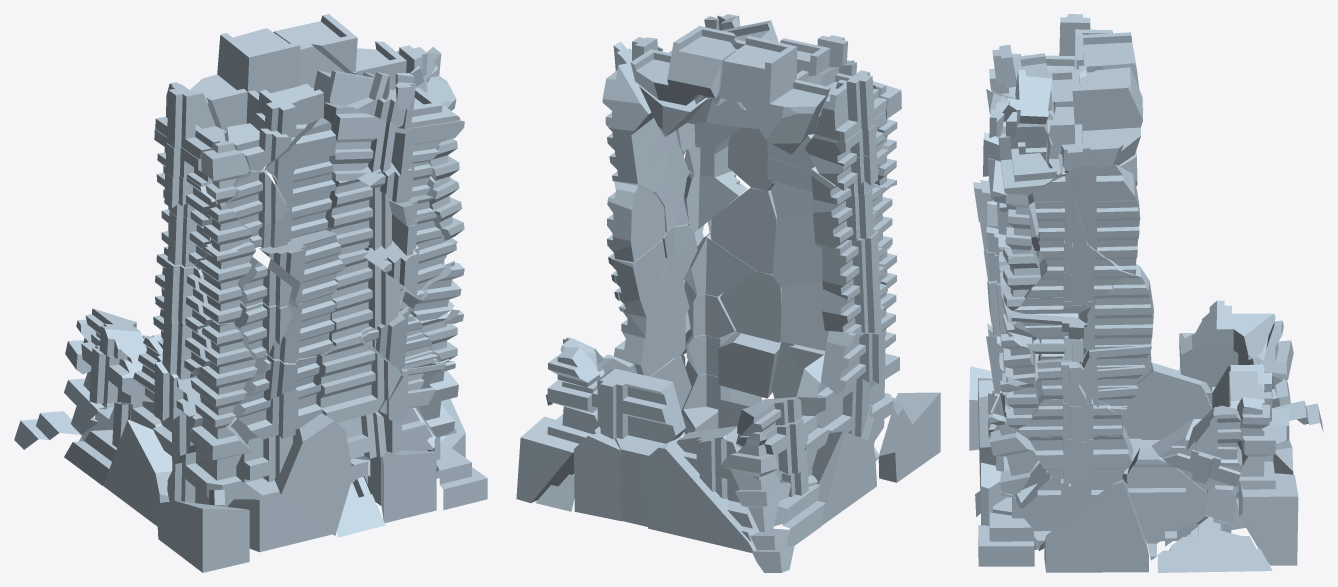
The model's file is Heavy_Commercial1-2-broken.fbx.
The picture shows the model from 3 angles, left to right: view 1: azimuth 30°, elevation 25°; view 2: azimuth 150°, elevation 25°; view 3: azimuth 270°, elevation 25°; orthographic projection. The views are drawn at different scales.
Parts seen in each view (by area): view 1: Heavy_Commercal_1_cell.099, Heavy_Commercal_1_cell.083, Heavy_Commercal_1_cell.166, Heavy_Commercal_1_cell.082, Heavy_Commercal_1_cell.146, Heavy_Commercal_1_cell.197, Heavy_Commercal_1_cell.117, Heavy_Commercal_1_cell.063, Heavy_Commercal_1_cell.007, Heavy_Commercal_1_cell.056, Heavy_Commercal_1_cell.037, Heavy_Commercal_1_cell.164 (+60 smaller); view 2: Heavy_Commercal_1_cell.099, Heavy_Commercal_1_cell.159, Heavy_Commercal_1_cell.117, Heavy_Commercal_1_cell.087, Heavy_Commercal_1_cell.088, Heavy_Commercal_1_cell.166, Heavy_Commercal_1_cell.146, Heavy_Commercal_1_cell.197, Heavy_Commercal_1_cell.148, Heavy_Commercal_1_cell.102, Heavy_Commercal_1_cell.008, Heavy_Commercal_1_cell.145 (+55 smaller); view 3: Heavy_Commercal_1_cell.036, Heavy_Commercal_1_cell.117, Heavy_Commercal_1_cell.088, Heavy_Commercal_1_cell.178, Heavy_Commercal_1_cell.162, Heavy_Commercal_1_cell.102, Heavy_Commercal_1_cell.132, Heavy_Commercal_1_cell.105, Heavy_Commercal_1_cell.171, Heavy_Commercal_1_cell.020, Heavy_Commercal_1_cell.125, Heavy_Commercal_1_cell.101 (+54 smaller).
Part boxes in pixels (x1,y1,x2,y2): Heavy_Commercal_1_cell.099: (190,28,300,141); Heavy_Commercal_1_cell.083: (274,413,353,535); Heavy_Commercal_1_cell.166: (156,500,249,572); Heavy_Commercal_1_cell.082: (313,340,401,422); Heavy_Commercal_1_cell.146: (103,420,172,526); Heavy_Commercal_1_cell.197: (329,257,403,346); Heavy_Commercal_1_cell.117: (273,14,427,80); Heavy_Commercal_1_cell.063: (325,177,391,261); Heavy_Commercal_1_cell.007: (323,102,396,180); Heavy_Commercal_1_cell.056: (227,478,332,552); Heavy_Commercal_1_cell.037: (381,450,436,522); Heavy_Commercal_1_cell.164: (155,82,225,159); Heavy_Commercal_1_cell.099: (719,35,830,154); Heavy_Commercal_1_cell.159: (647,437,756,552); Heavy_Commercal_1_cell.117: (630,26,735,105); Heavy_Commercal_1_cell.087: (592,368,685,443); Heavy_Commercal_1_cell.088: (602,41,659,183); Heavy_Commercal_1_cell.166: (878,392,940,482); Heavy_Commercal_1_cell.146: (812,431,876,525); Heavy_Commercal_1_cell.197: (708,187,776,274); Heavy_Commercal_1_cell.148: (574,433,621,521); Heavy_Commercal_1_cell.102: (607,181,665,262); Heavy_Commercal_1_cell.008: (730,469,794,572); Heavy_Commercal_1_cell.145: (676,426,759,542); Heavy_Commercal_1_cell.036: (1044,479,1148,572); Heavy_Commercal_1_cell.117: (1061,67,1142,171); Heavy_Commercal_1_cell.088: (1066,164,1140,274); Heavy_Commercal_1_cell.178: (1127,447,1207,560); Heavy_Commercal_1_cell.162: (1122,362,1212,483); Heavy_Commercal_1_cell.102: (1078,264,1153,350); Heavy_Commercal_1_cell.132: (1238,473,1298,565); Heavy_Commercal_1_cell.105: (1157,516,1272,572); Heavy_Commercal_1_cell.171: (1027,425,1133,486); Heavy_Commercal_1_cell.020: (1017,393,1123,442); Heavy_Commercal_1_cell.125: (1191,300,1275,359); Heavy_Commercal_1_cell.101: (1018,472,1121,550).
Bounding box in the file's own units: 4675 × 6526 × 4716.
